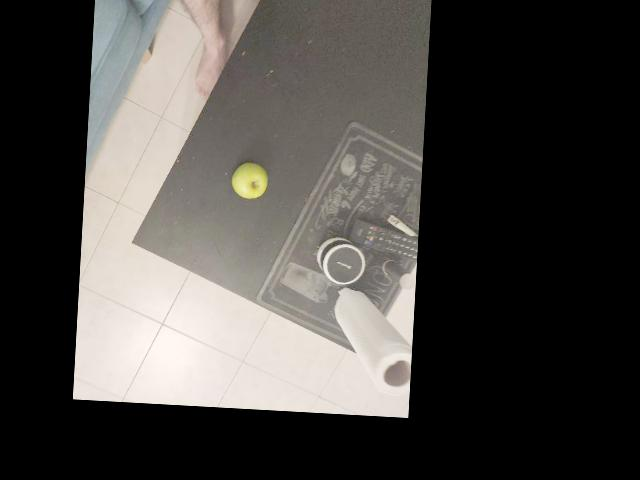apple: (164, 214, 212, 263)
